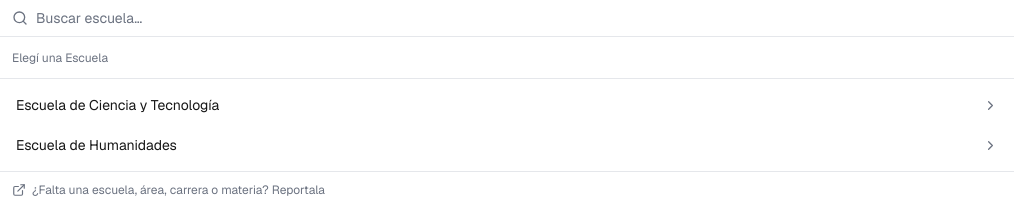
Test: AreasCascader › back button returns to the parent level
Click the button "Escuela de Ciencia y Tecnología".
click(118, 105)  # box [6,85,1008,125]
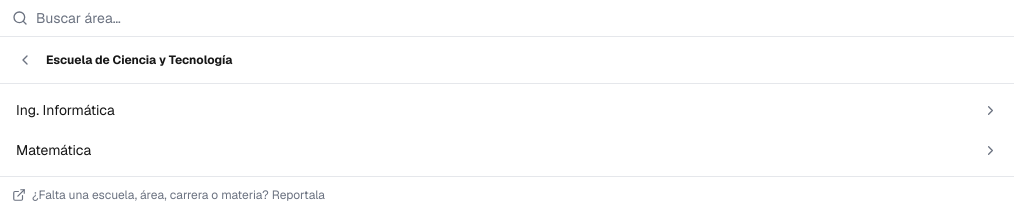
Now the button "Ing. Informática" is shown, box [6,90,1008,130]
Click the button named "Volver".
click(25, 60)  # box [12,47,38,73]
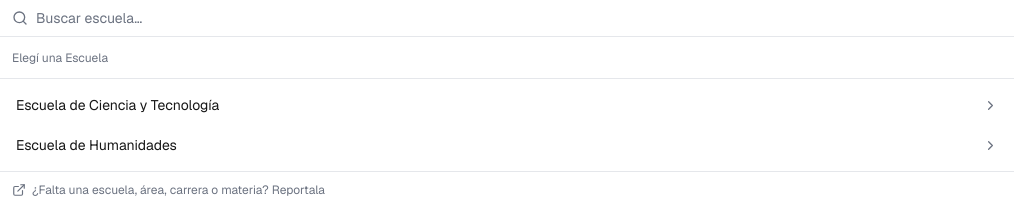
Now the button "Escuela de Ciencia y Tecnología" is shown, box [6,85,1008,125]
